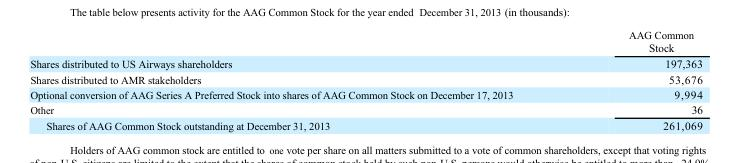table: (29, 28, 702, 131)
table column: (29, 28, 570, 131), (570, 28, 702, 131)
table column header: (29, 28, 702, 55)
table row: (29, 28, 702, 55), (29, 55, 702, 71), (29, 101, 702, 117), (29, 71, 702, 86), (29, 86, 702, 101), (29, 117, 702, 131)
